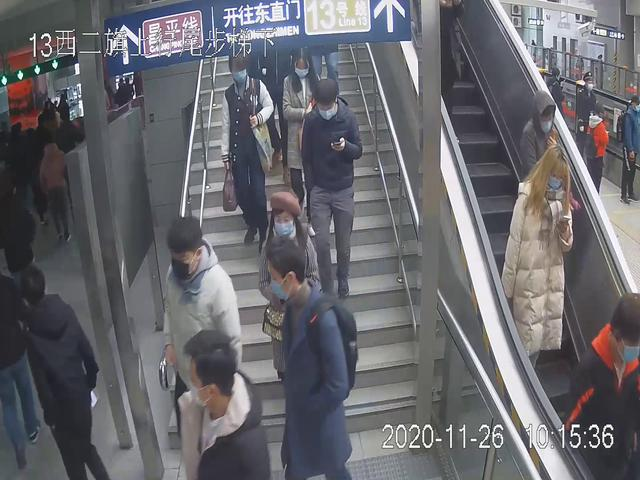person: (266, 231, 363, 480), (15, 259, 112, 477), (498, 139, 576, 382), (166, 214, 244, 452), (300, 74, 365, 304), (220, 47, 276, 250), (278, 47, 328, 214)
